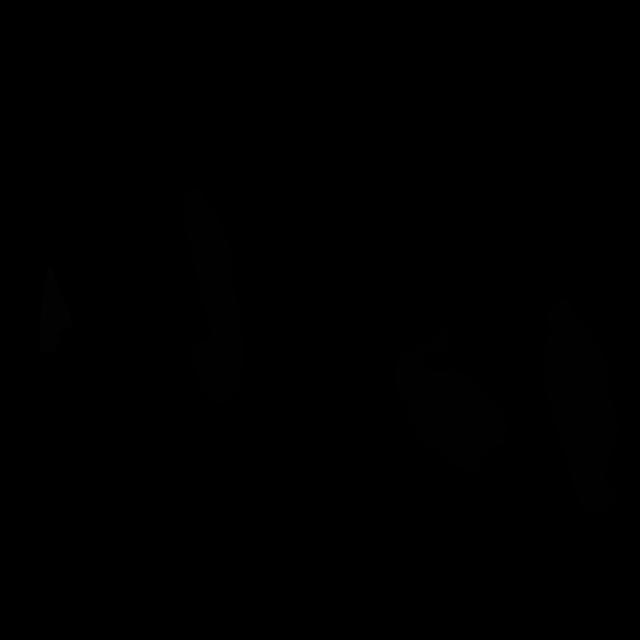cardboard: (40, 266, 74, 353)
rigid_plastic: (395, 321, 508, 474), (544, 297, 621, 513), (184, 188, 244, 406)
